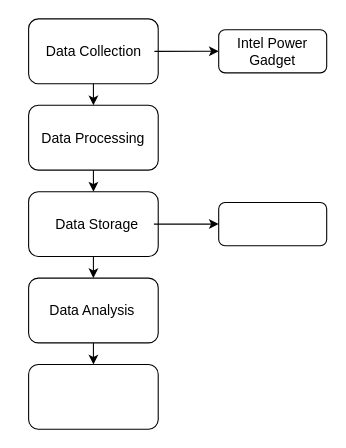
The diagram is 346 pixels wide and 448 high, and some of its shapes have lost their labels. The centre of each missing label's shape, as x and y in pixels:
"CSV Files" goes at [272,223].
"Deployment" goes at [93,396].
